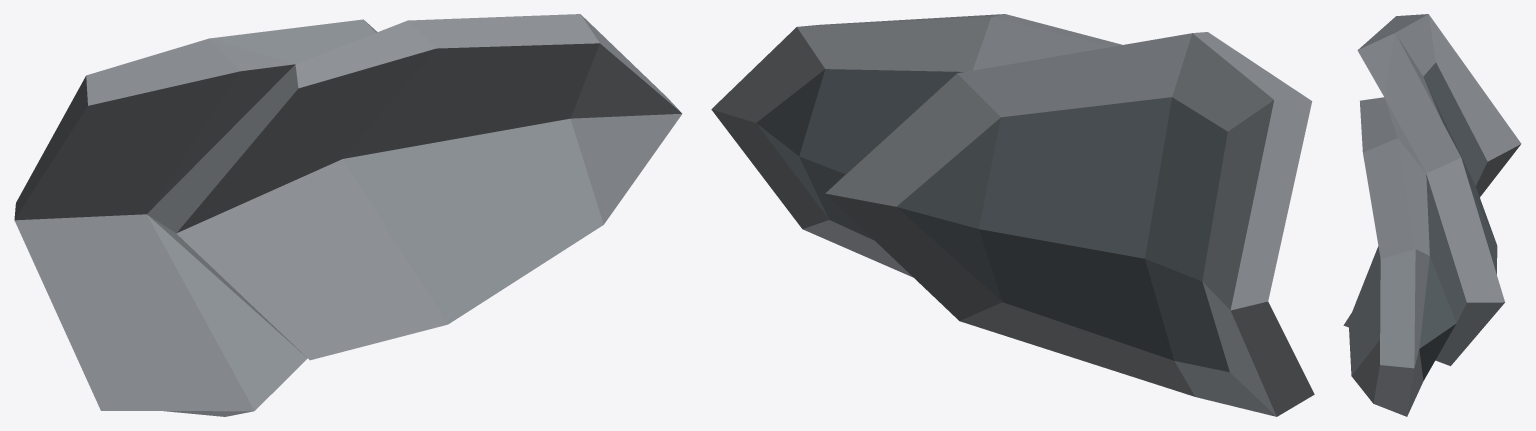
Rendered from Chr_ElbowAttachLeft_03_Static.fbx.
3 renders of one model, left to right at view 1: azimuth 30°, elevation 25°; view 2: azimuth 150°, elevation 25°; view 3: azimuth 270°, elevation 25°, orthographic. The views are drawn at different scales.
Parts seen in each view (by area): view 1: Chr_ElbowAttachLeft_03_Static; view 2: Chr_ElbowAttachLeft_03_Static; view 3: Chr_ElbowAttachLeft_03_Static.
Boxes of the visible parts, x1,y1,x2,y2 form: Chr_ElbowAttachLeft_03_Static: [14, 14, 682, 416]; Chr_ElbowAttachLeft_03_Static: [711, 14, 1314, 416]; Chr_ElbowAttachLeft_03_Static: [1343, 14, 1521, 416].
Bounding box in the file's own units: 0.2164 × 0.1274 × 0.0677.
